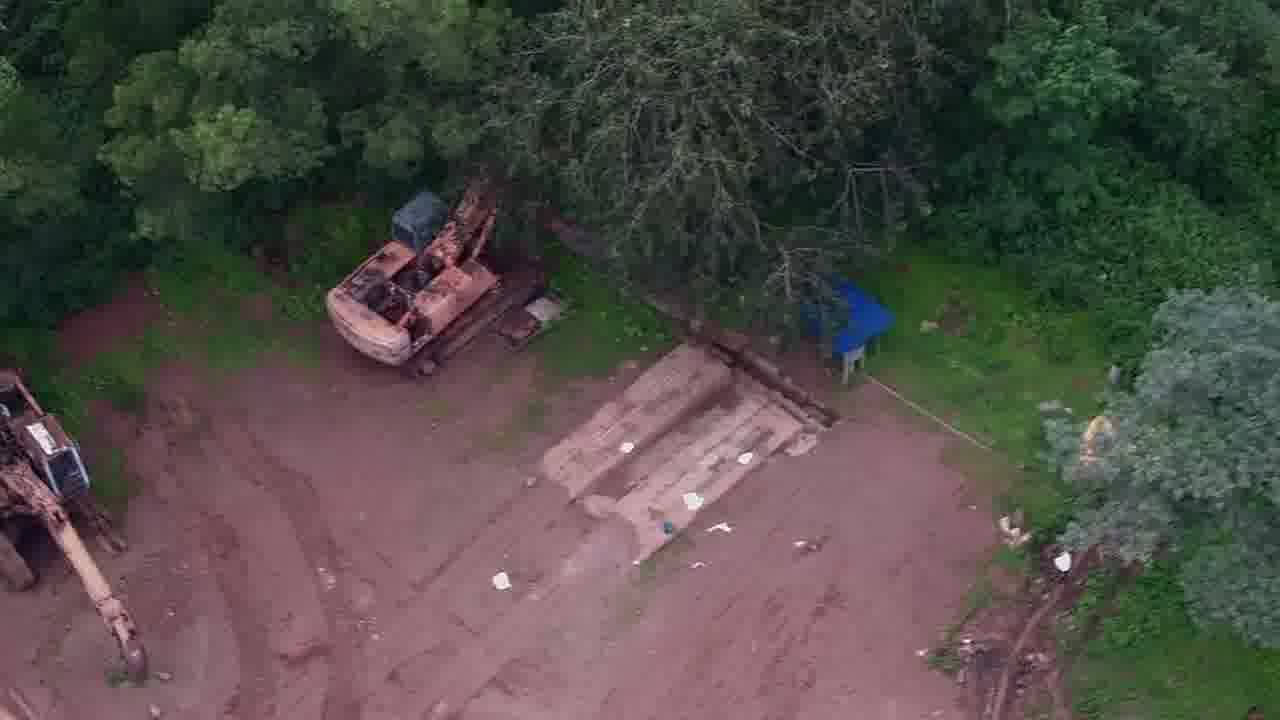HMV: (319, 177, 506, 379)
